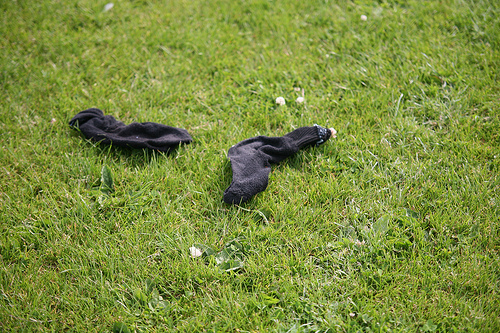litter: (225, 124, 331, 201), (69, 109, 191, 151)
